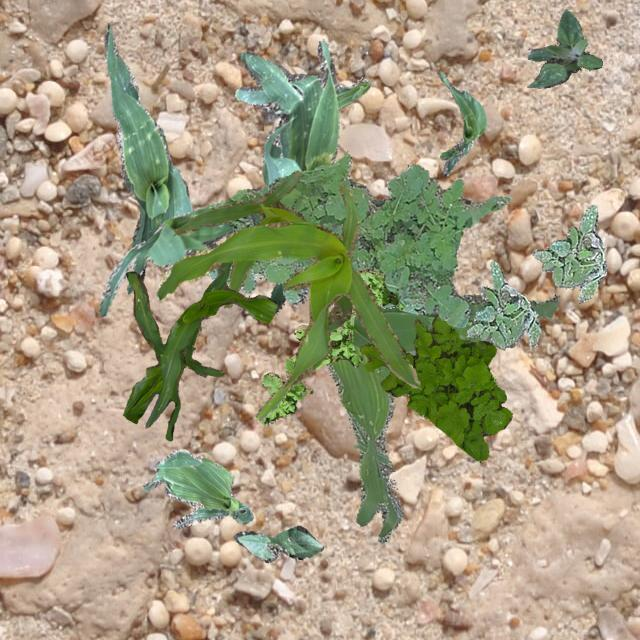crop: (156, 184, 418, 418), (234, 40, 368, 312), (174, 170, 352, 330), (121, 260, 276, 440), (102, 23, 192, 278), (98, 202, 232, 316), (142, 448, 252, 528), (438, 70, 486, 176), (249, 212, 339, 264), (232, 524, 322, 562)
weed: (326, 294, 558, 542), (205, 152, 510, 326), (358, 314, 512, 462), (258, 267, 404, 423), (532, 204, 606, 302), (466, 260, 540, 348), (526, 8, 602, 88)
